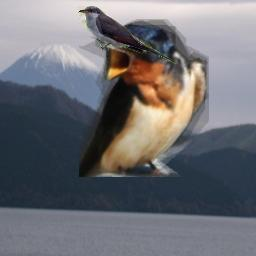Cuckoo: (77, 6, 176, 65)
Swallow: (79, 19, 209, 177)
